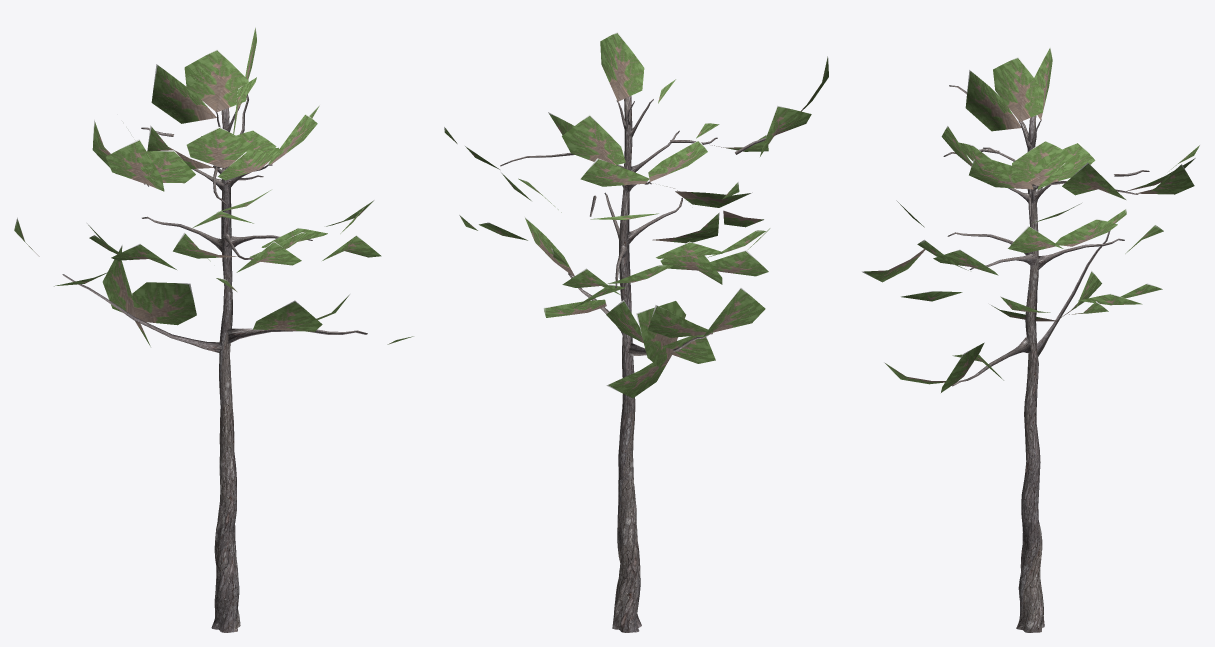
Rendered from cay-dau-co-thu-03.glb.
The picture shows the model from 3 angles, left to right: view 1: azimuth 30°, elevation 25°; view 2: azimuth 150°, elevation 25°; view 3: azimuth 270°, elevation 25°; orthographic projection. The views are drawn at different scales.
Parts seen in each view (by area): view 1: Tree_03; view 2: Tree_03; view 3: Tree_03.
Part boxes in pixels (left/top/right/bottom): Tree_03: left=14, top=27, right=413, bottom=632; Tree_03: left=444, top=32, right=828, bottom=632; Tree_03: left=862, top=47, right=1200, bottom=632.
Size of the model in its own units: 17.42 by 31.68 by 16.78.
1 material, 1 textured.
